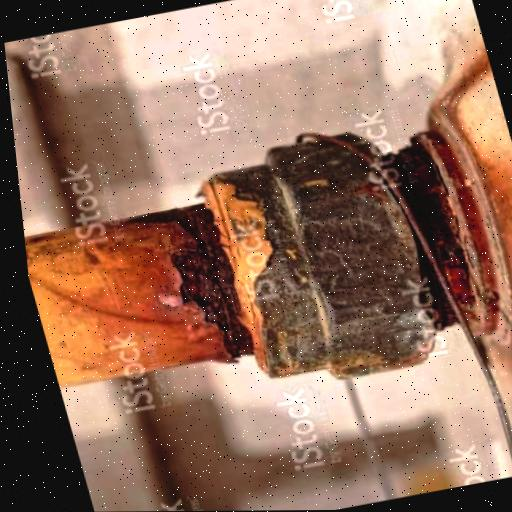corrosion: (115, 190, 258, 372), (378, 132, 491, 336)
